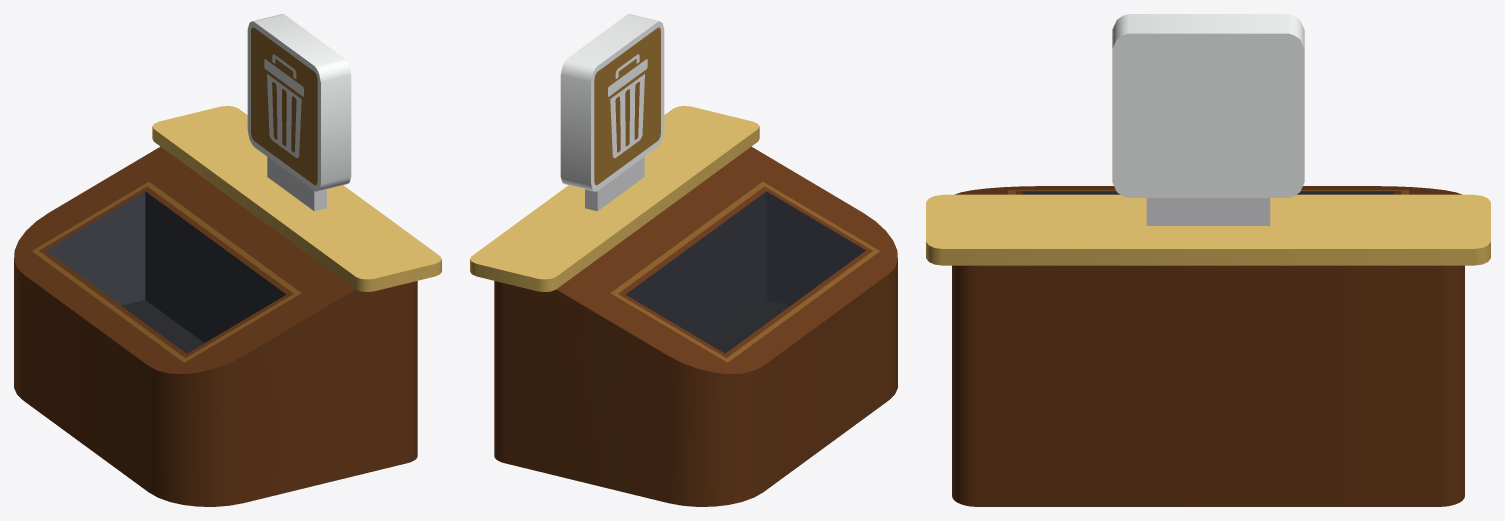
Rendered from NF_GarbageCan.fbx.
3 renders of one model, left to right at view 1: azimuth 30°, elevation 25°; view 2: azimuth 150°, elevation 25°; view 3: azimuth 270°, elevation 25°, orthographic. The views are drawn at different scales.
Parts seen in each view (by area): view 1: NF_GarbageCan; view 2: NF_GarbageCan; view 3: NF_GarbageCan.
Part boxes in pixels (<box>): NF_GarbageCan: <box>14,14,441,506</box>; NF_GarbageCan: <box>470,14,897,506</box>; NF_GarbageCan: <box>926,14,1490,506</box>.
Bounding box in the file's own units: 1.05 × 1.4 × 1.54.
1 material, 1 textured.
